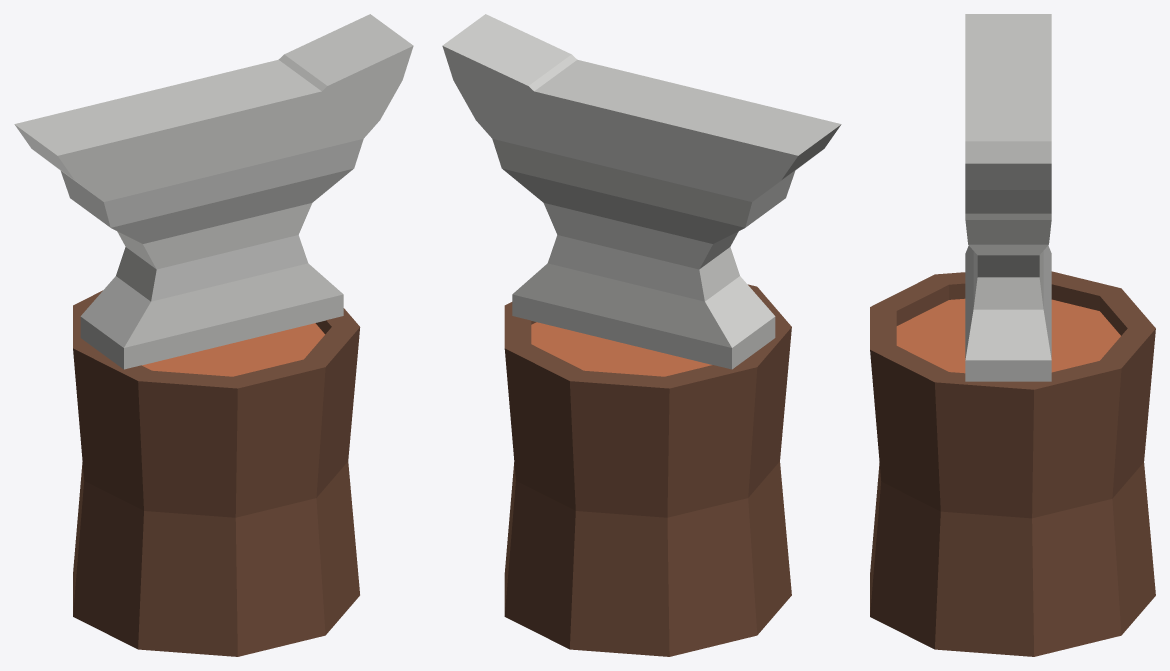
The model's file is Anvil_4_White.fbx.
3 views of the same model, side by side, from view 1: azimuth 30°, elevation 25°; view 2: azimuth 150°, elevation 25°; view 3: azimuth 270°, elevation 25° (orthographic).
Visible parts, largest first — view 1: Anvil_4_White_Part_1, Anvil_4_White_Part_3, Anvil_4_White_Part_2; view 2: Anvil_4_White_Part_1, Anvil_4_White_Part_3, Anvil_4_White_Part_2; view 3: Anvil_4_White_Part_1, Anvil_4_White_Part_3, Anvil_4_White_Part_2.
Boxes of the visible parts, bbox=[...] form: Anvil_4_White_Part_1: bbox=[73, 290, 360, 656]; Anvil_4_White_Part_3: bbox=[14, 14, 413, 369]; Anvil_4_White_Part_2: bbox=[142, 323, 324, 376]; Anvil_4_White_Part_1: bbox=[504, 284, 791, 656]; Anvil_4_White_Part_3: bbox=[442, 14, 841, 369]; Anvil_4_White_Part_2: bbox=[531, 322, 711, 376]; Anvil_4_White_Part_1: bbox=[870, 271, 1155, 656]; Anvil_4_White_Part_3: bbox=[965, 14, 1051, 381]; Anvil_4_White_Part_2: bbox=[896, 298, 1120, 373].
Bounding box in the file's own units: 97.15 × 136 × 67.89.
